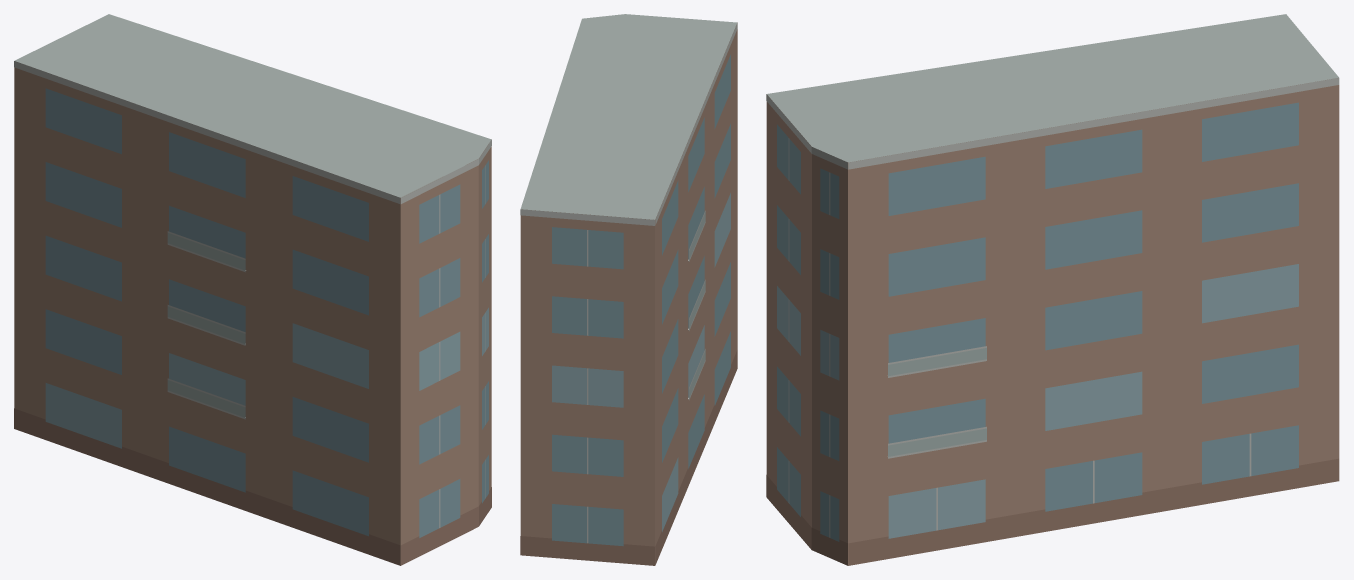
Rendered from survey-upis-32651704.glb.
3 views of the same model, side by side, from view 1: azimuth 30°, elevation 25°; view 2: azimuth 150°, elevation 25°; view 3: azimuth 270°, elevation 25° (orthographic). The views are drawn at different scales.
Parts seen in each view (by area): view 1: survey-upis-32651704.tmp; view 2: survey-upis-32651704.tmp; view 3: survey-upis-32651704.tmp.
Boxes of the visible parts, box(x1,y1,x2,y2) form: survey-upis-32651704.tmp: box(14, 14, 491, 565); survey-upis-32651704.tmp: box(520, 14, 737, 565); survey-upis-32651704.tmp: box(766, 14, 1339, 565).
Bounding box in the file's own units: 10.82 × 13.7 × 17.64.
